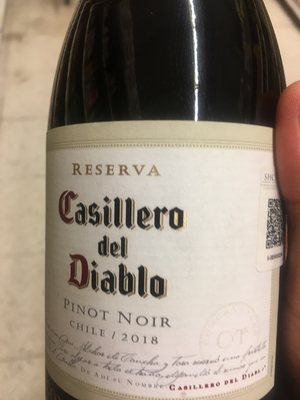casillero del diablo pinot noir: (42, 12, 285, 400)
